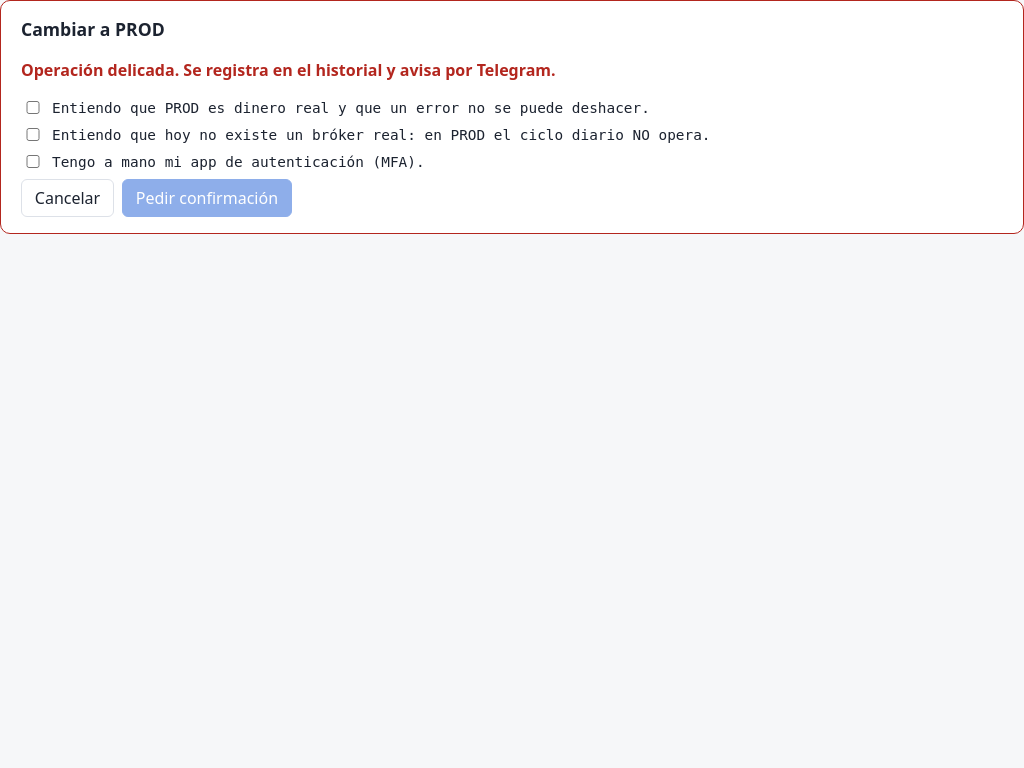
Test: ProdSwitchDialog › shows why the challenge was refused (feature off or locked) and stays on the first screen
Click the 1st checkbox.
click(33, 107)  # box [25, 101, 41, 114]
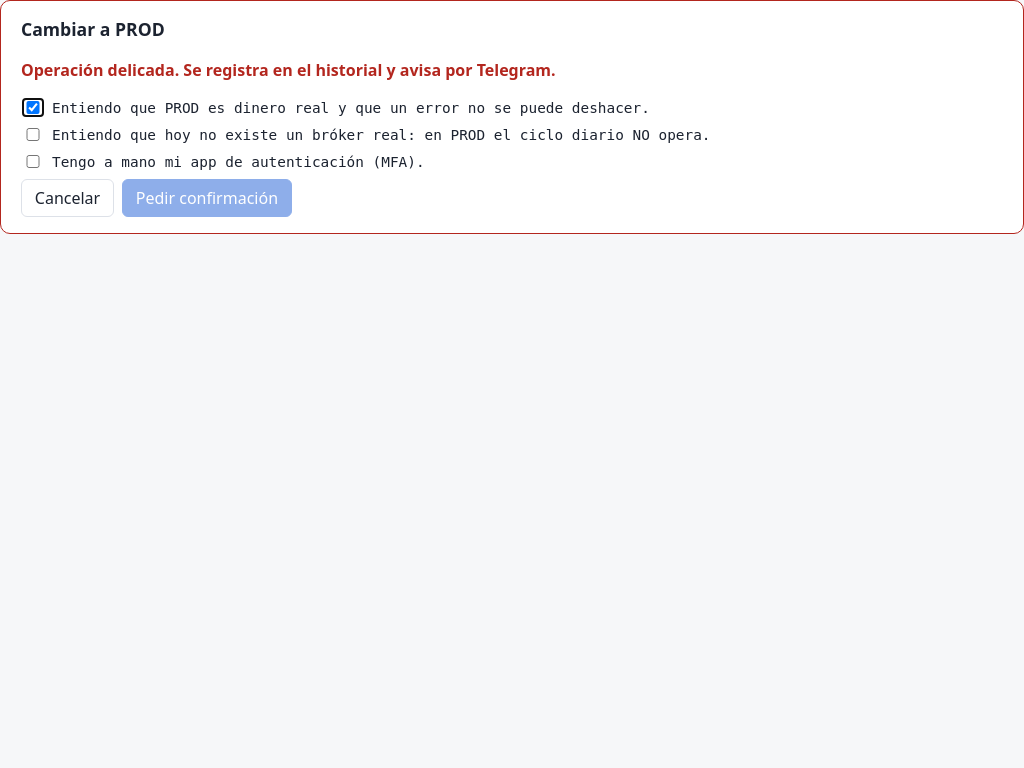
Click the 2nd checkbox.
click(33, 134)  # box [25, 128, 41, 141]
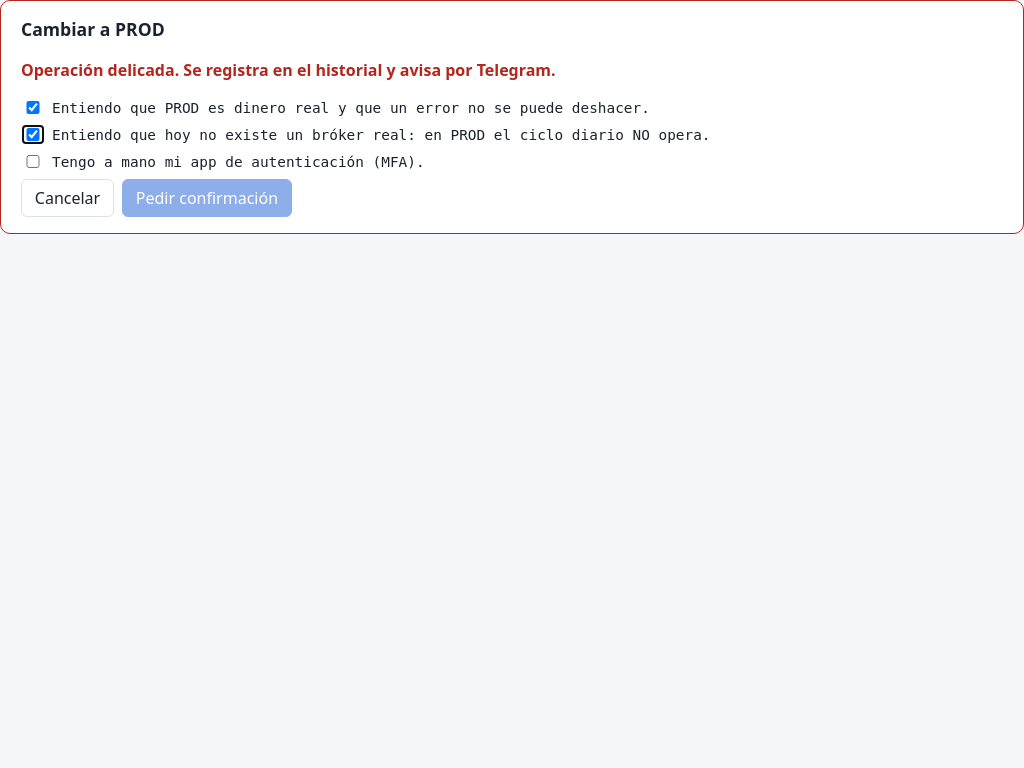
Click the checkbox labelled "Tengo a mano mi app de autenticación (MFA).".
click(33, 162)  # box [25, 155, 41, 168]
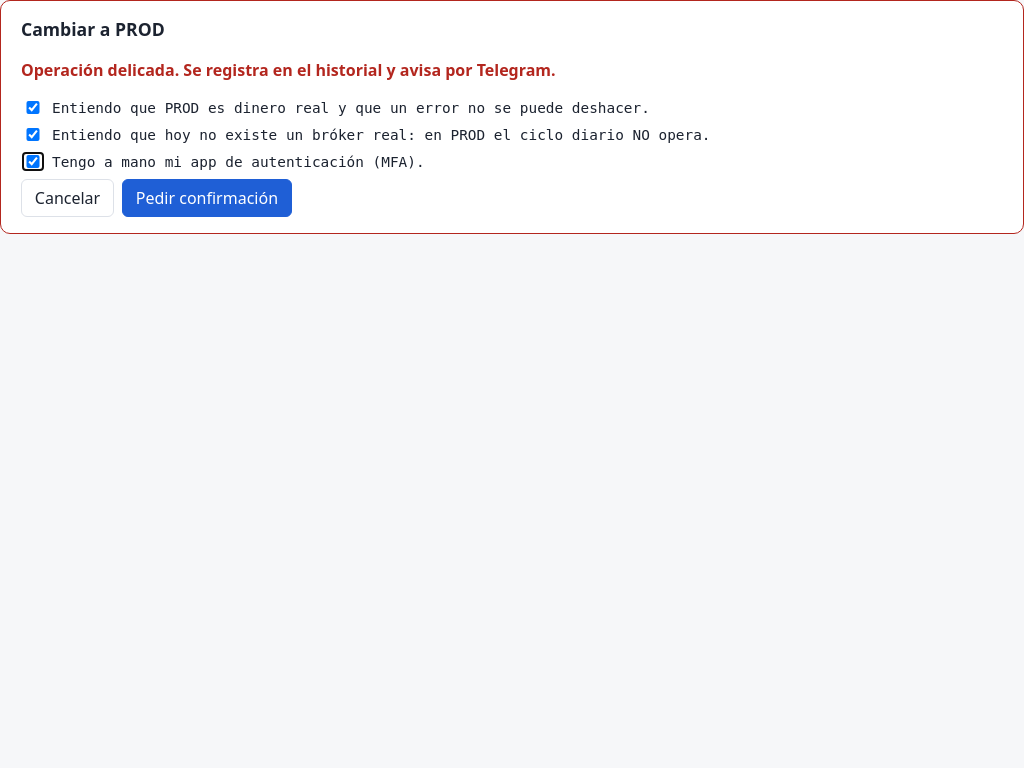
Click the button "Pedir confirmación".
click(207, 198)  # box [122, 180, 292, 218]
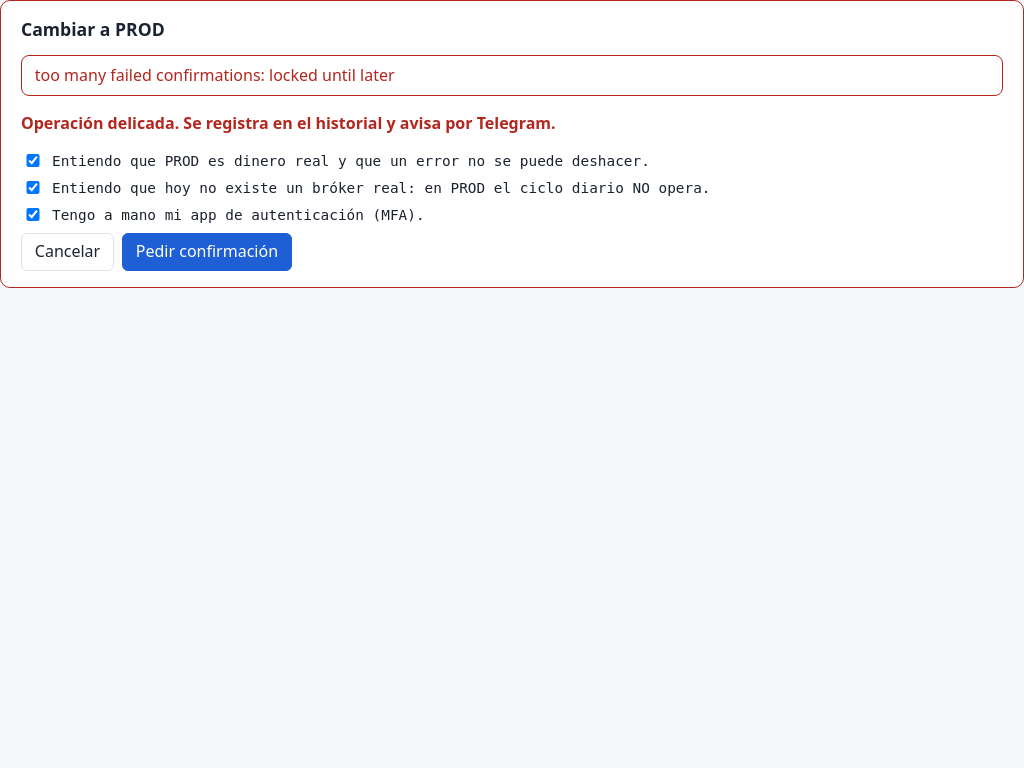
Expected: the button "Pedir confirmación" is shown, [122, 233, 292, 271]
Result: the message shows "locked until later" at [35, 64, 395, 86]
